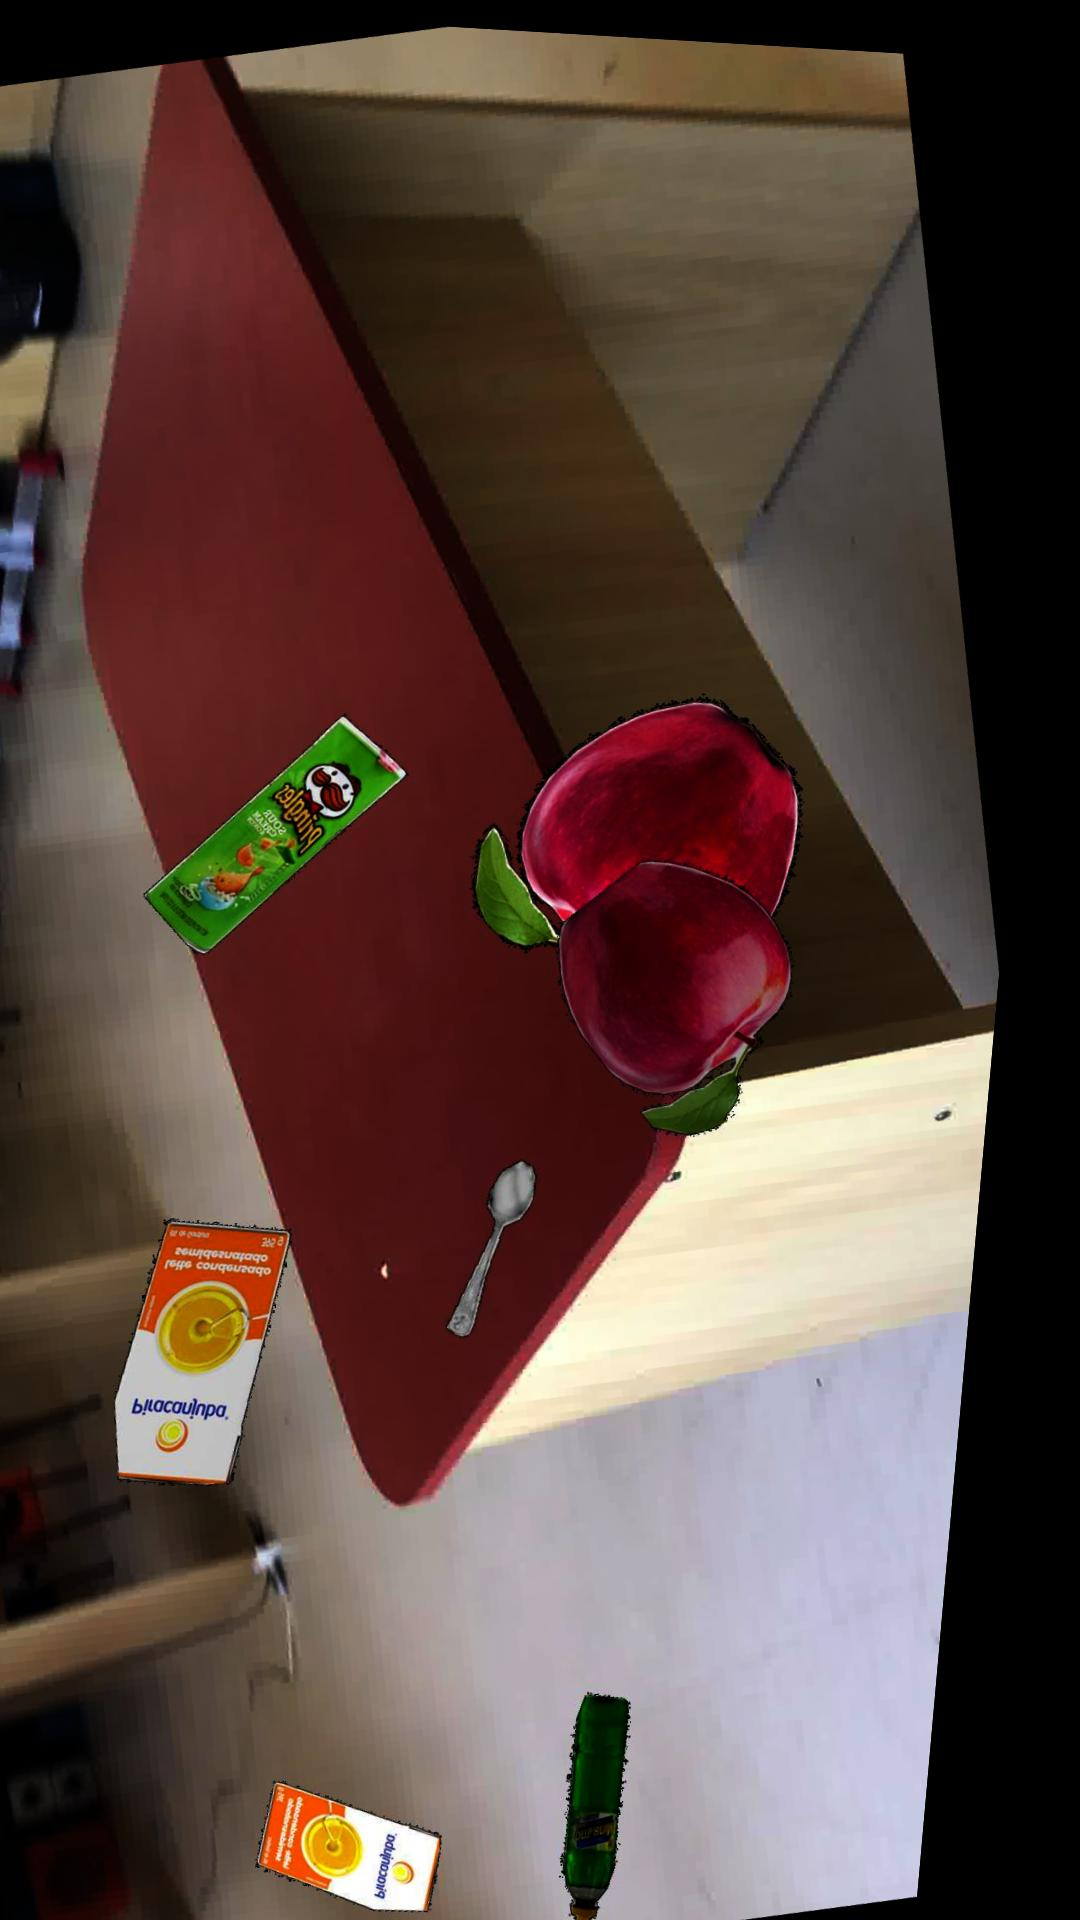apple: (488, 688, 819, 944), (576, 853, 814, 1127)
cleaner: (596, 1685, 663, 1920)
pringles: (162, 711, 423, 952)
spoon: (472, 1153, 560, 1332)
